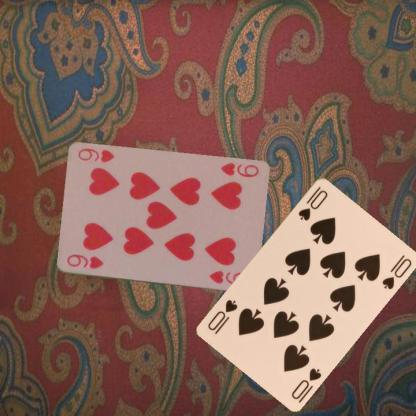10s: (295, 183, 329, 222), (289, 364, 323, 400)
9h: (218, 160, 260, 179), (64, 252, 104, 270)
